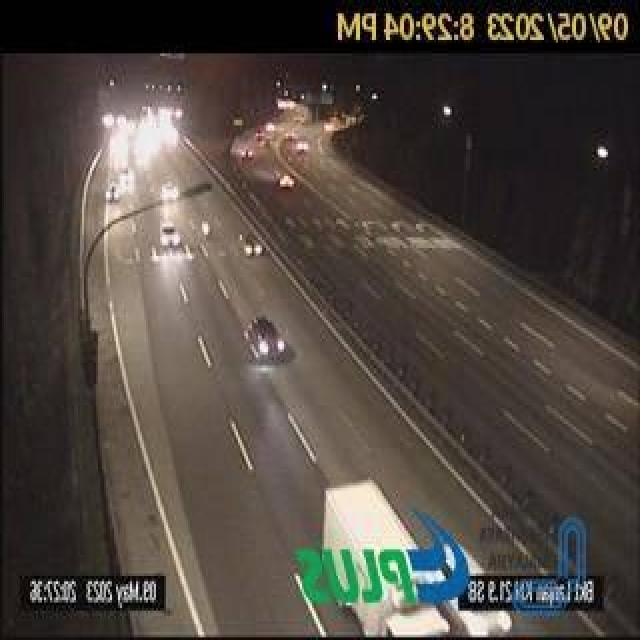Car: (238, 297, 292, 381), (236, 223, 284, 274), (145, 218, 188, 272)
Truck: (288, 465, 519, 640)
